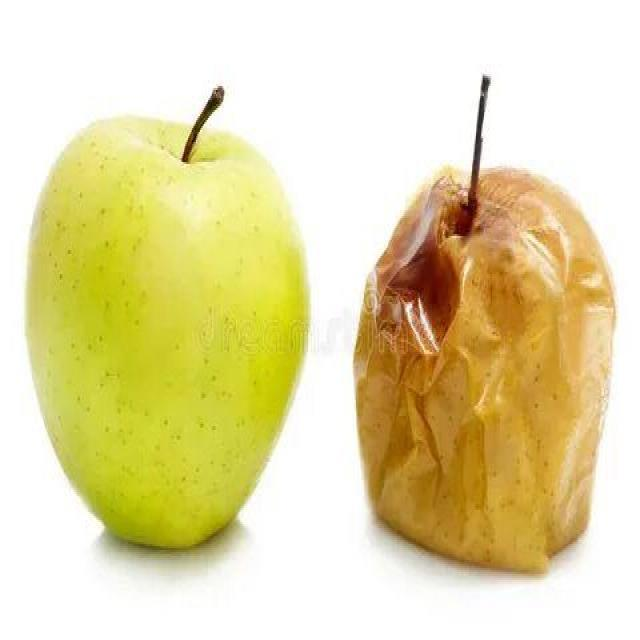Fresh Apple: (51, 126, 302, 536)
Rotten: (336, 170, 622, 562)
